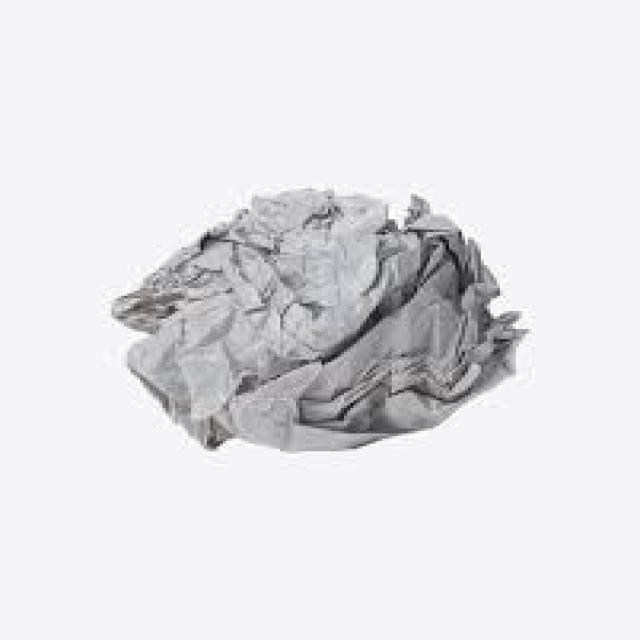crampled paper: (112, 189, 517, 450)
